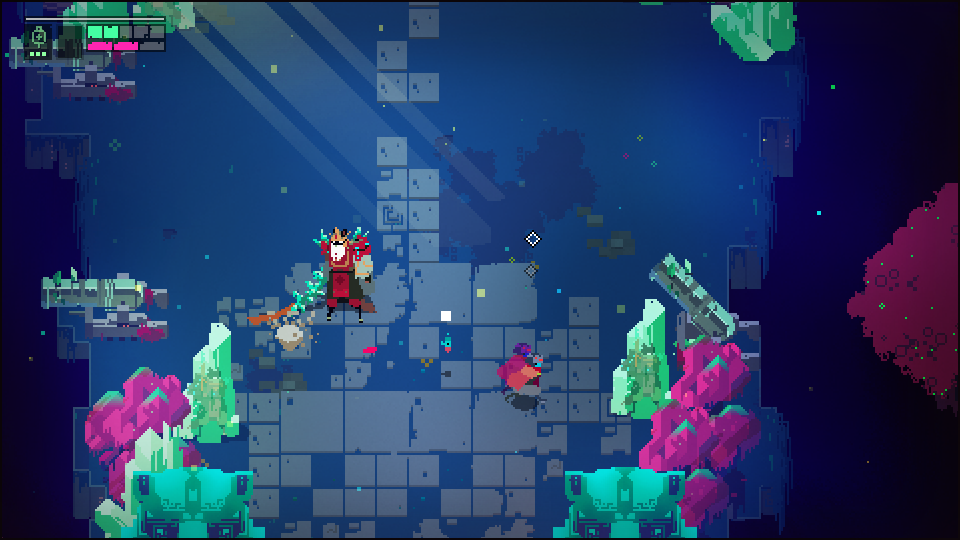hanged_man: (279, 220, 377, 331)
player: (504, 350, 547, 411)
